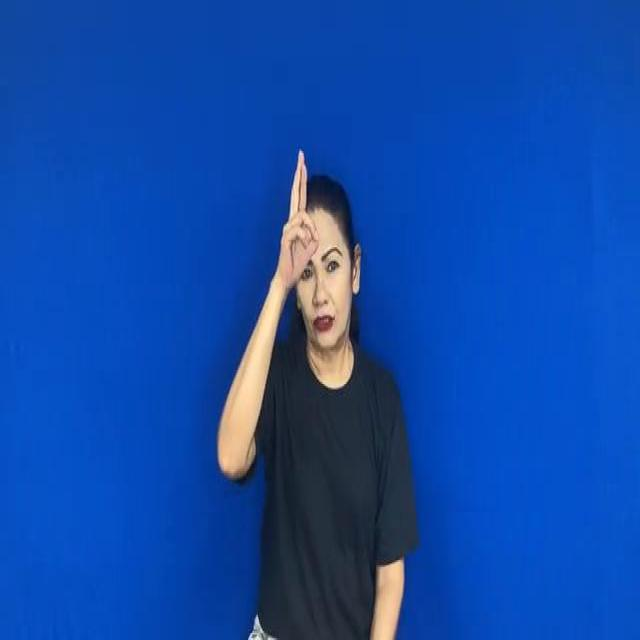chicken: (275, 150, 319, 281)
